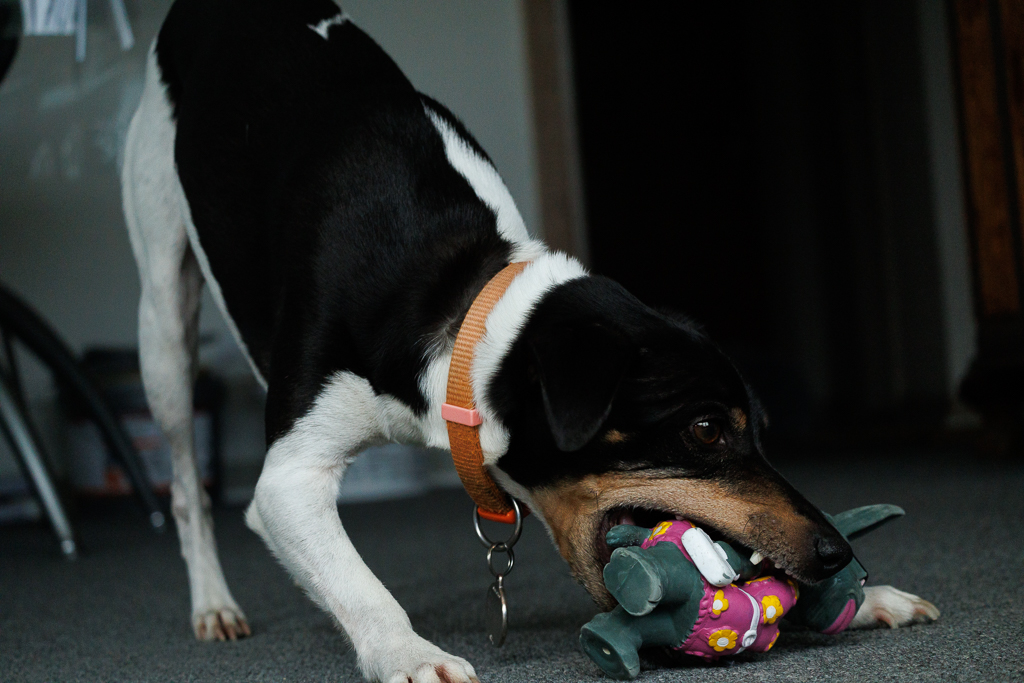Dog: (101, 0, 948, 683)
Humanoid: (564, 481, 915, 683)
